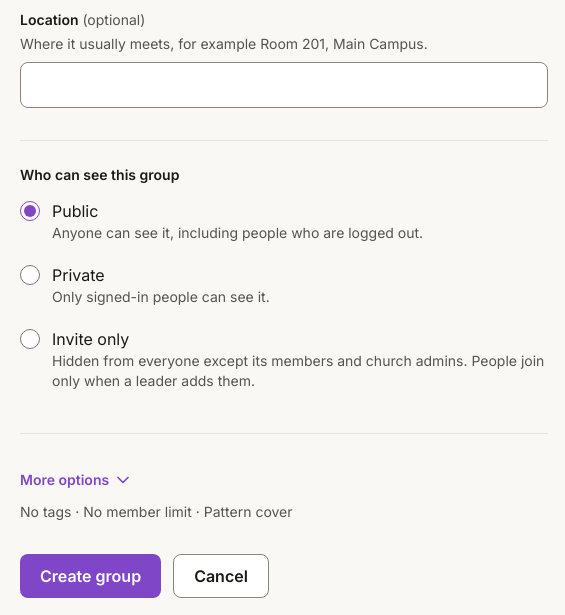
Test: keeps name, description, location and visibility visible, and tucks the rest under More options
(page scrolled)
Expected: the field labelled "Location (optional)" is shown, 20,62 -> 548,108
Expected: the radio button labelled "Public" is shown, 20,201 -> 40,221
What coordinates should you click on to do the following:
click the button "More options"
I would click on:
 (77, 480)
Its box is 20,458 -> 133,502.
(page scrolled)
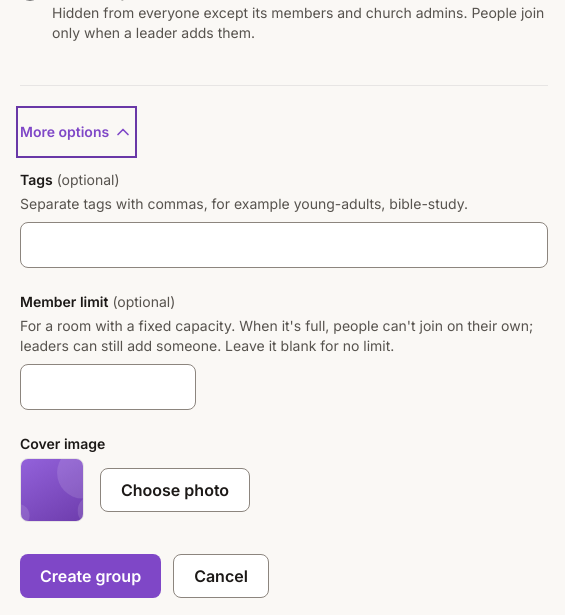
Now the button "More options" is expanded, box 20,110 -> 133,154
Now the field labelled "Tags (optional)" is shown, box 20,222 -> 548,268
Now the number field labelled "Member limit (optional)" is shown, box 20,364 -> 196,410
